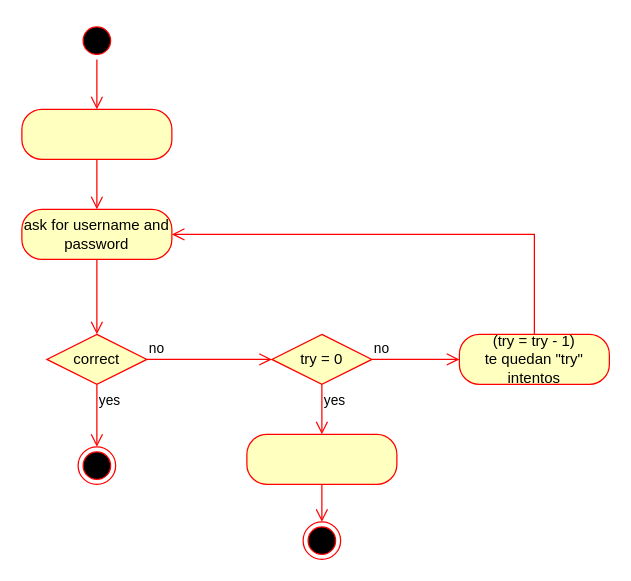
The diagram is 631 pixels wide and 581 high, and some of its shapes have lost their labels. The shapes that lost their labels are listed below. From the top down, each one's centre as x and y in pixels, then its label:
At (96,133): "try = 3".
At (321,458): "error".
